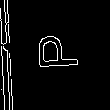P_W: (31, 40, 81, 80)
